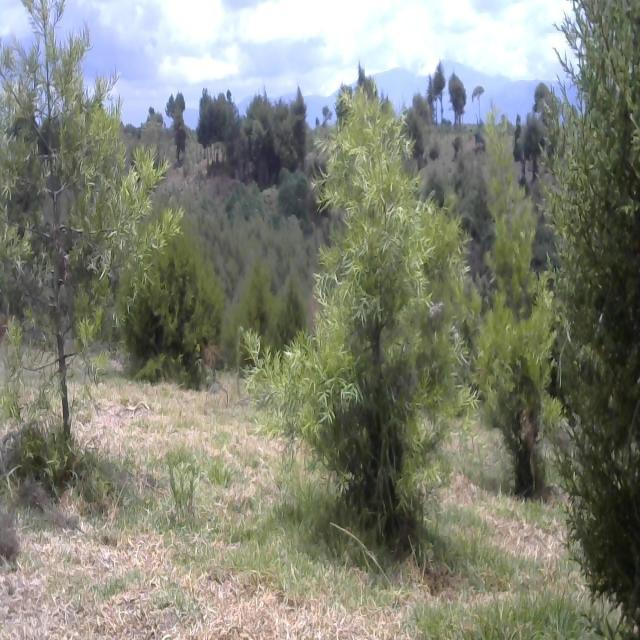Juniperus procesera: (549, 3, 640, 640), (114, 212, 223, 378), (229, 266, 272, 362), (273, 268, 312, 358), (428, 61, 447, 118), (450, 74, 467, 121)
Podocarpus falcatus: (254, 82, 465, 558), (8, 2, 178, 588), (467, 116, 568, 512)
